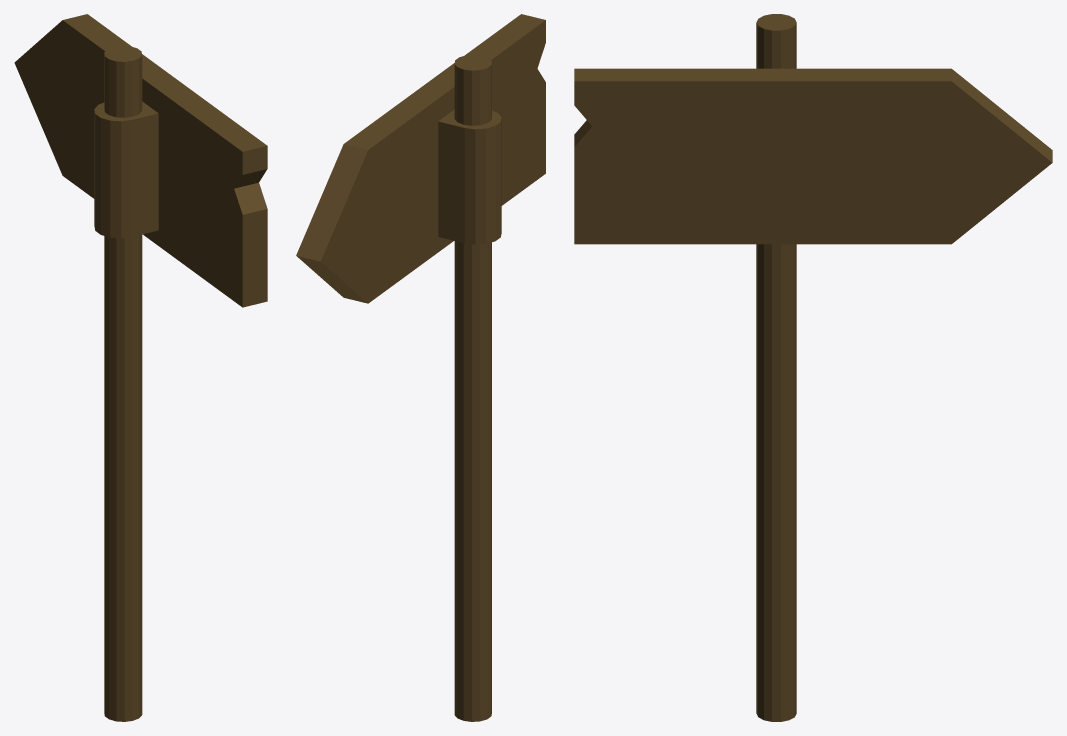
File: arrowSign.glb
3 views of the same model, side by side, from view 1: azimuth 30°, elevation 25°; view 2: azimuth 150°, elevation 25°; view 3: azimuth 270°, elevation 25° (orthographic). The views are drawn at different scales.
Visible parts, largest first — view 1: Cube; view 2: Cube; view 3: Cube.
Part boxes in pixels (box(x1,y1,x2,y2)): Cube: box(14, 14, 267, 721); Cube: box(296, 14, 545, 721); Cube: box(574, 14, 1052, 721).
Bounding box in the file's own units: 0.4516 × 3.9 × 2.45.
